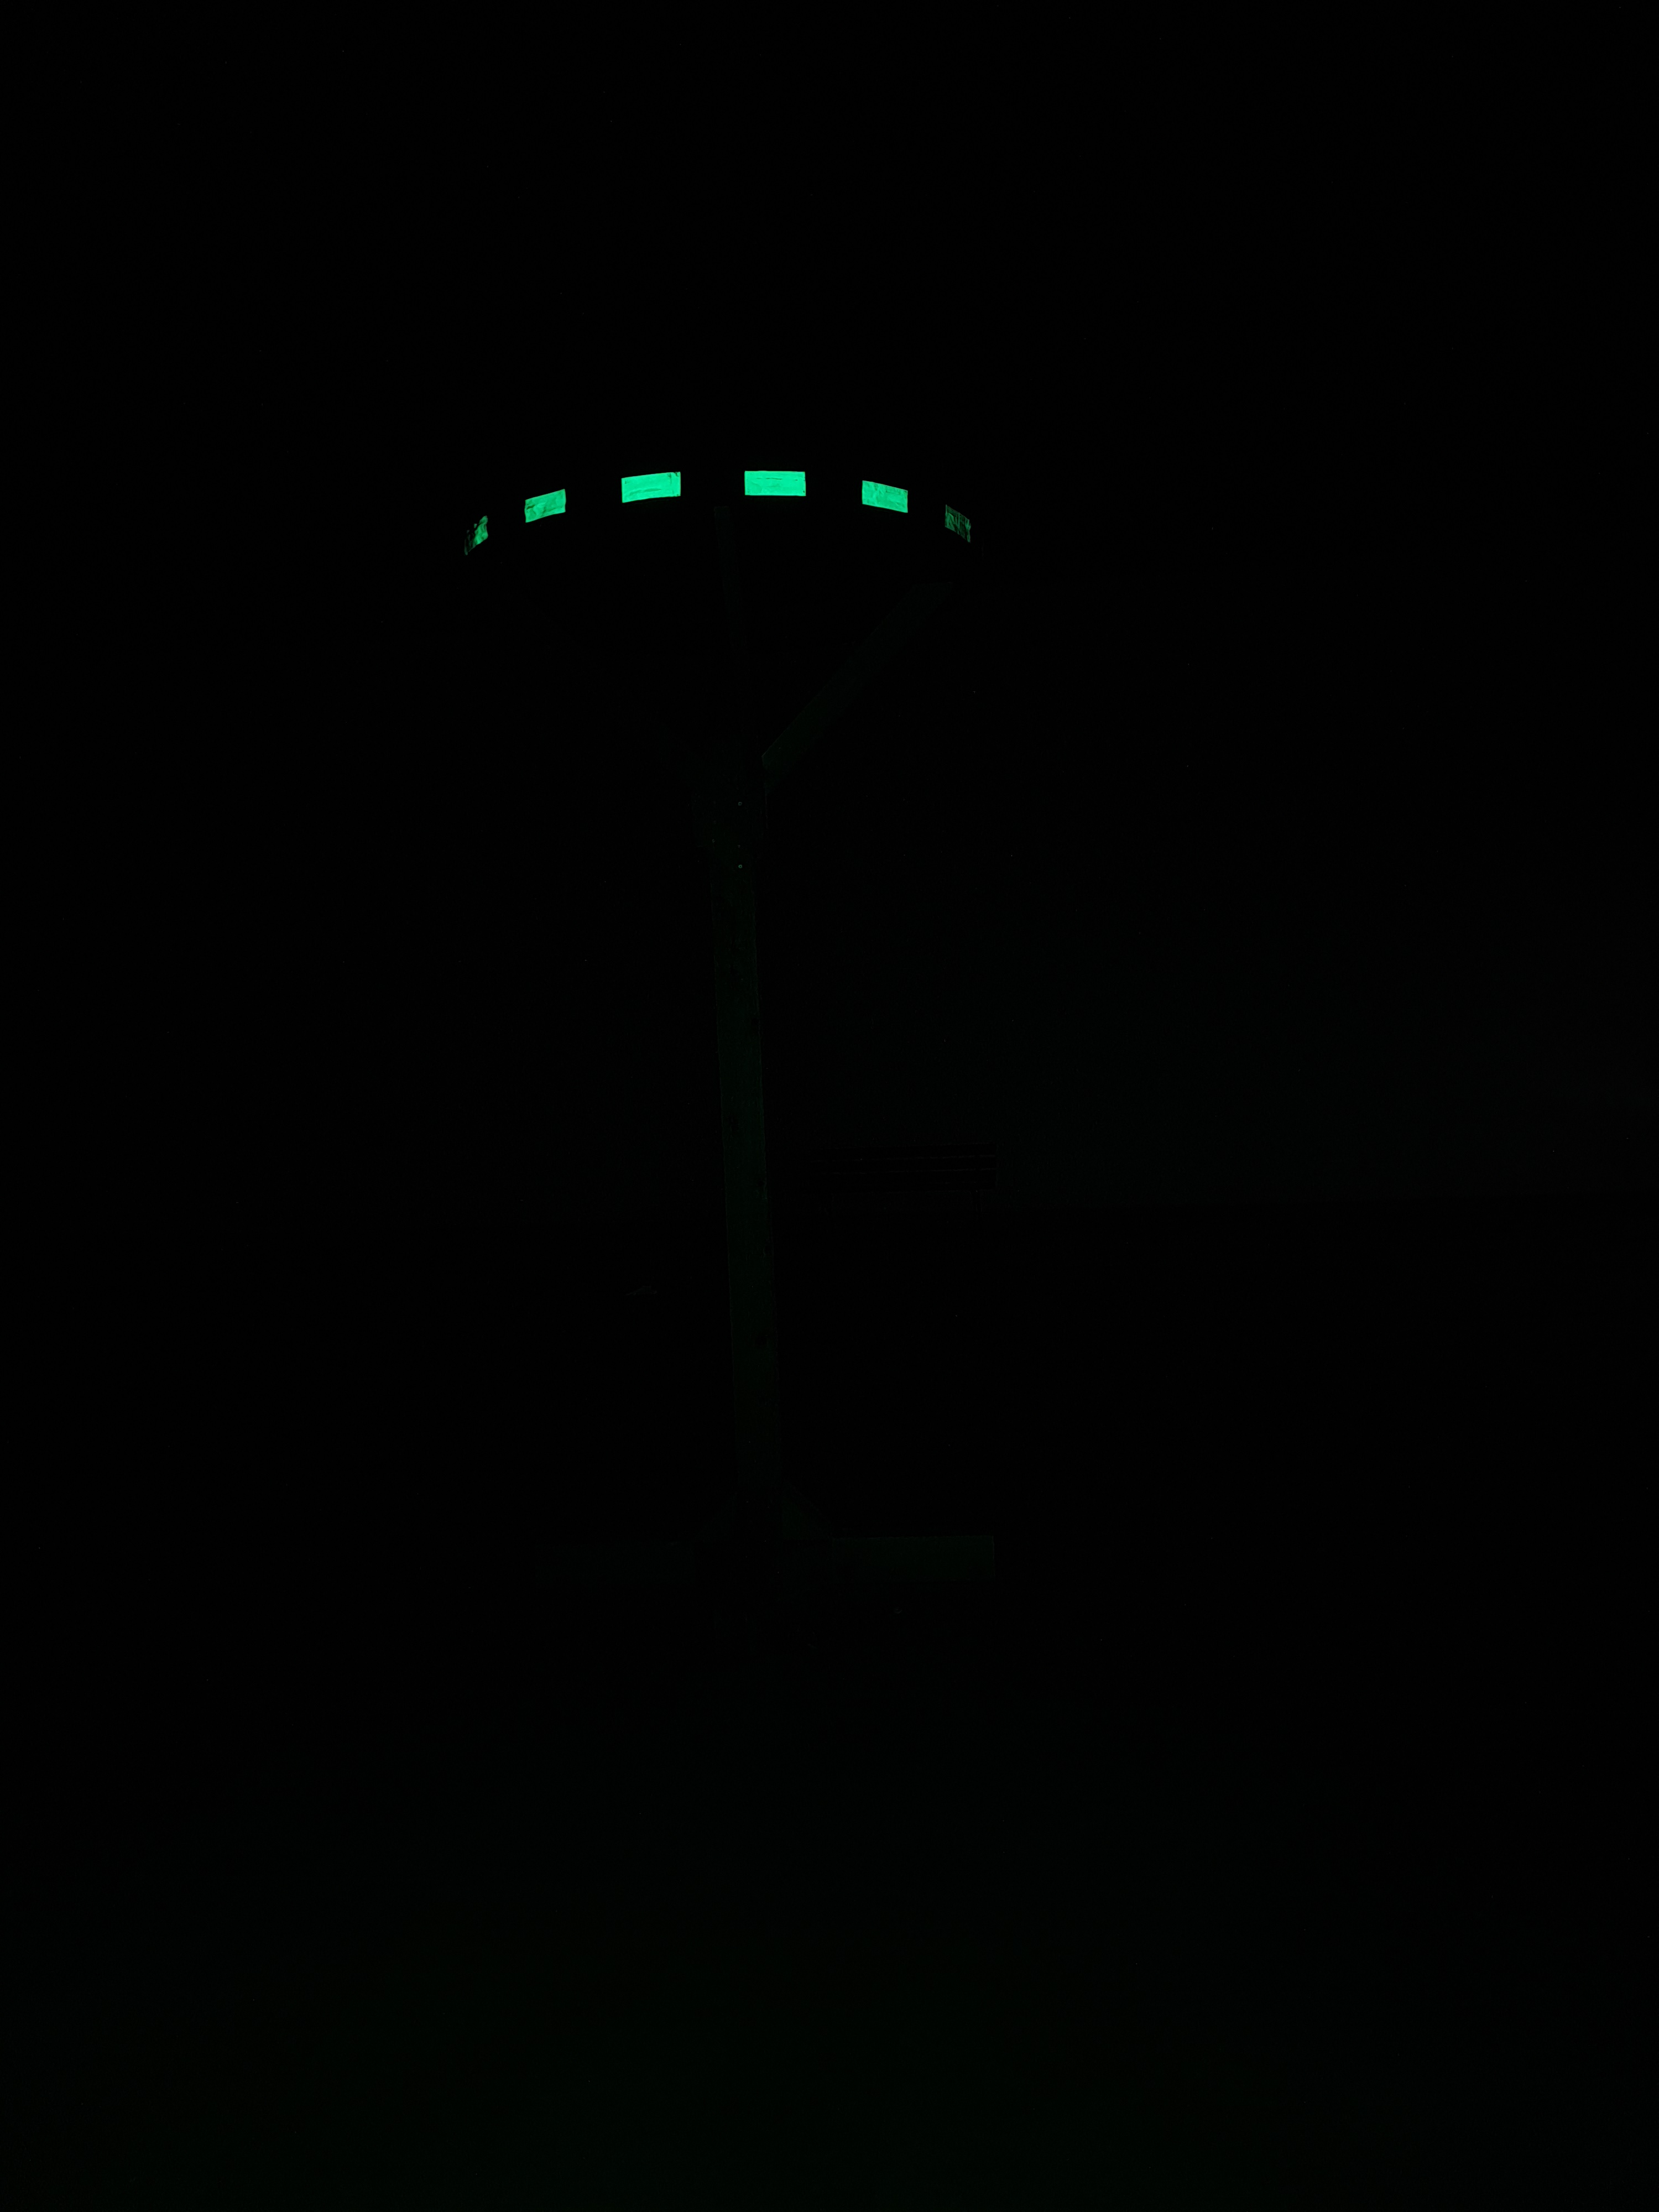hoop: (458, 467, 976, 566)
